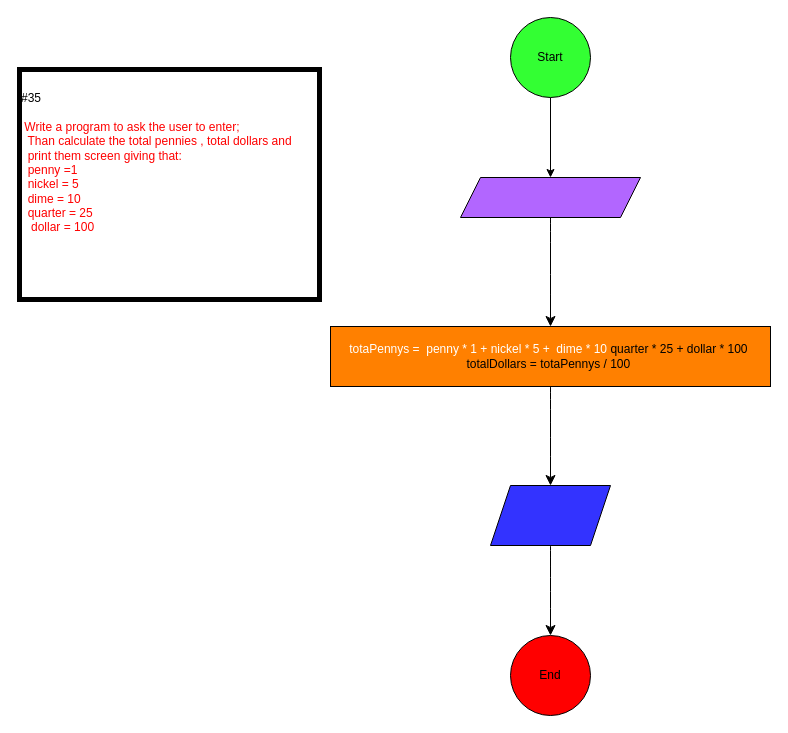
Image size: 788x733. Some labels were removed from this diagram. Here are the shapes that lost their labels. From the top down, the centre of each, then its label:
At point (550, 197): "Read: dollar , quarter , dime , nickel , penny".
At point (550, 515): "Print totaP ennys Print total dollars".
